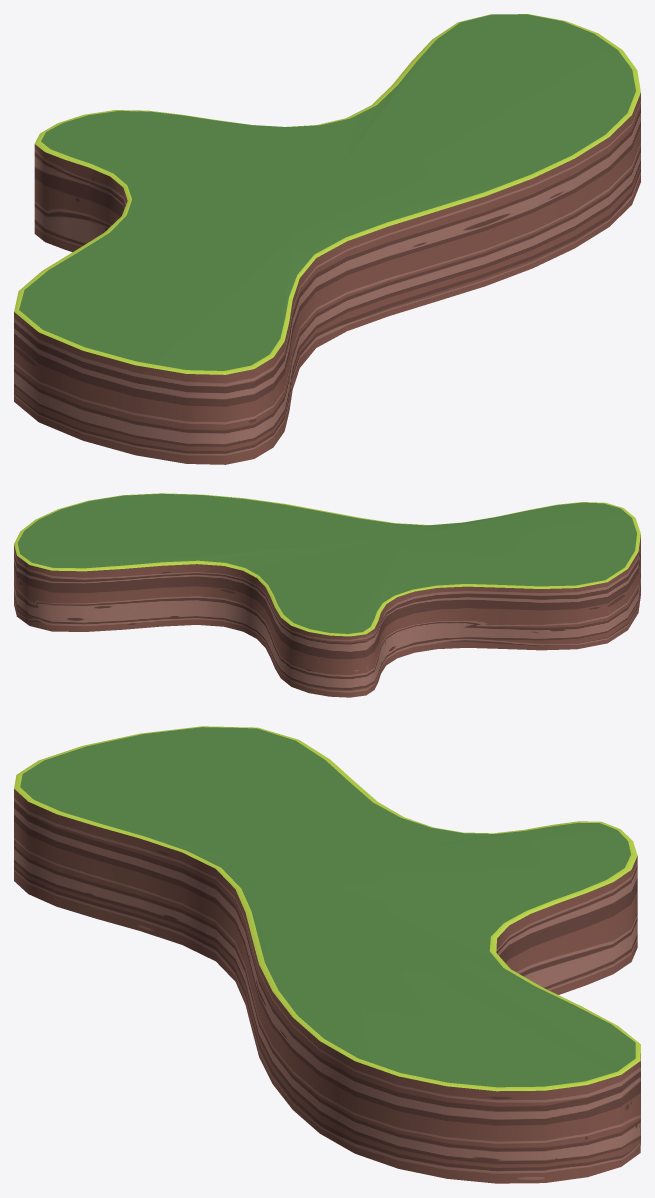
The model's file is grasschunk12.glb.
The picture shows the model from 3 angles, top to bottom: view 1: azimuth 30°, elevation 25°; view 2: azimuth 150°, elevation 25°; view 3: azimuth 270°, elevation 25°; orthographic projection. The views are drawn at different scales.
Visible parts, largest first — view 1: Plate_Curved_Var16_01_Forest_mat_01_0; view 2: Plate_Curved_Var16_01_Forest_mat_01_0; view 3: Plate_Curved_Var16_01_Forest_mat_01_0.
Part boxes in pixels (x1,y1,x2,y2): Plate_Curved_Var16_01_Forest_mat_01_0: [14, 14, 640, 464]; Plate_Curved_Var16_01_Forest_mat_01_0: [14, 493, 640, 697]; Plate_Curved_Var16_01_Forest_mat_01_0: [14, 726, 640, 1183].
Size of the model in its own units: 0.269 by 0.0323 by 0.1954.
Materials: 1 (1 with a texture image).
